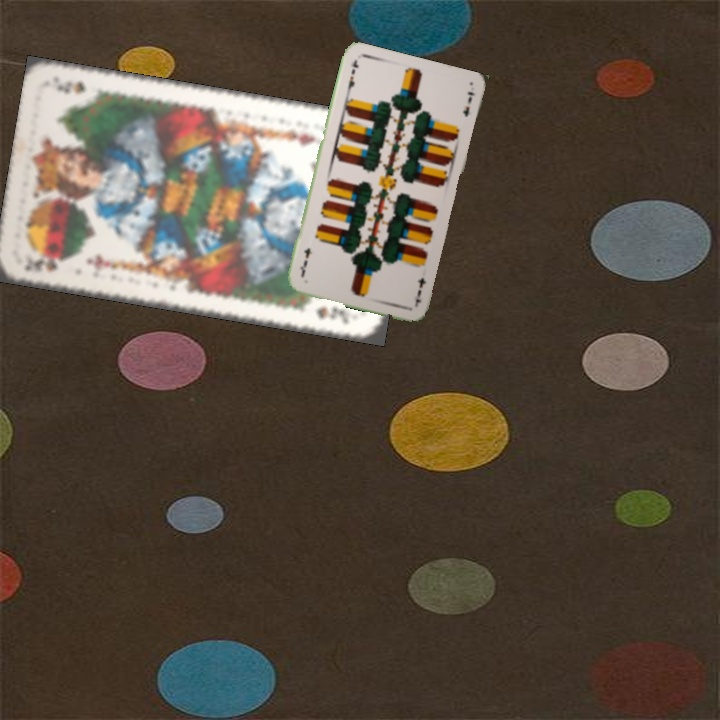E7: (342, 56, 361, 96), (411, 273, 429, 308)
SK: (20, 252, 70, 274)
